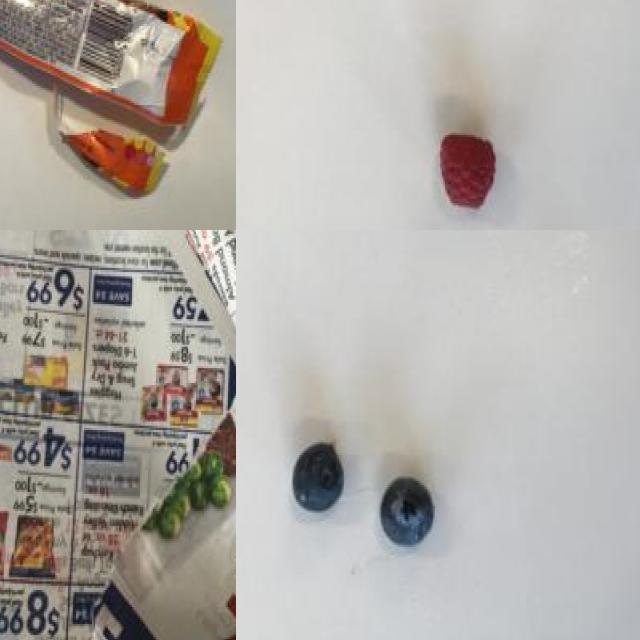compost: (265, 385, 462, 617), (432, 141, 612, 230)
paper: (0, 230, 236, 640)
trash: (0, 0, 235, 230)
